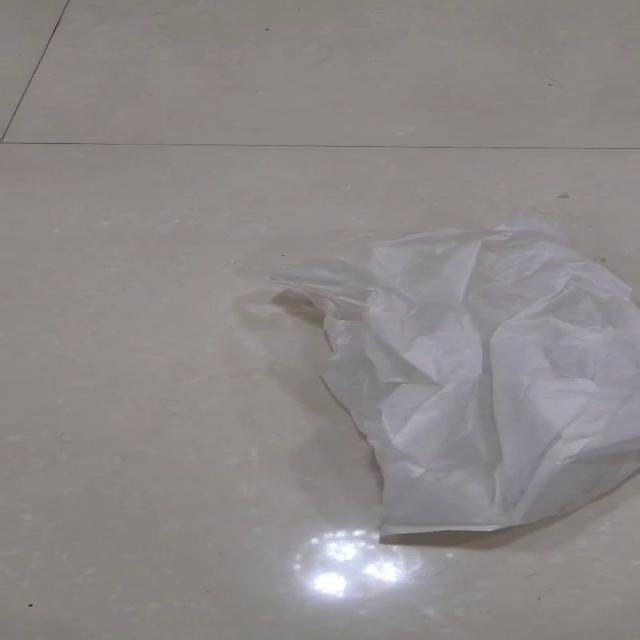plastic: (265, 215, 639, 541)
